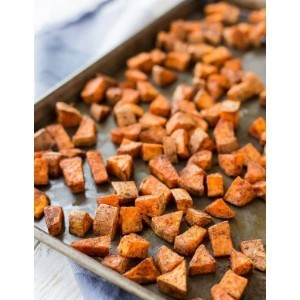sweet potato_brain food: (79, 48, 240, 239)
